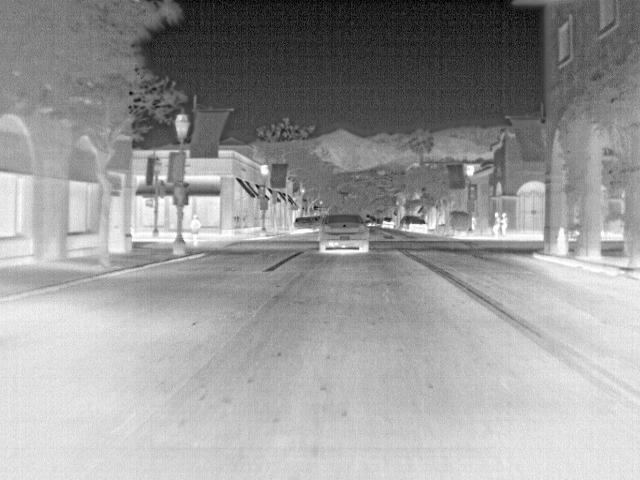car: (318, 215, 372, 254), (296, 218, 318, 234), (408, 218, 431, 232), (381, 214, 396, 228)
person: (188, 212, 204, 251), (498, 211, 511, 237), (490, 210, 502, 237)
